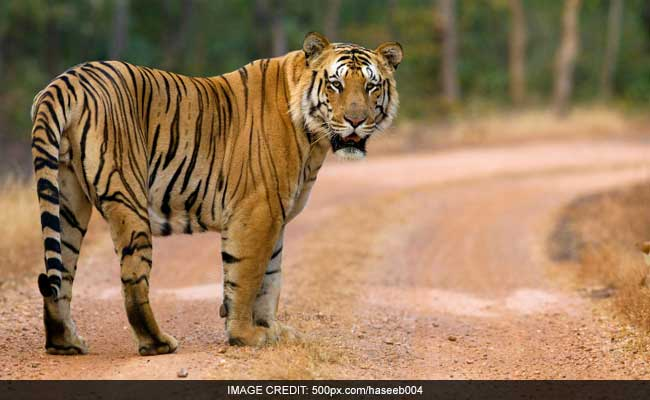tiger: (27, 37, 406, 362)
